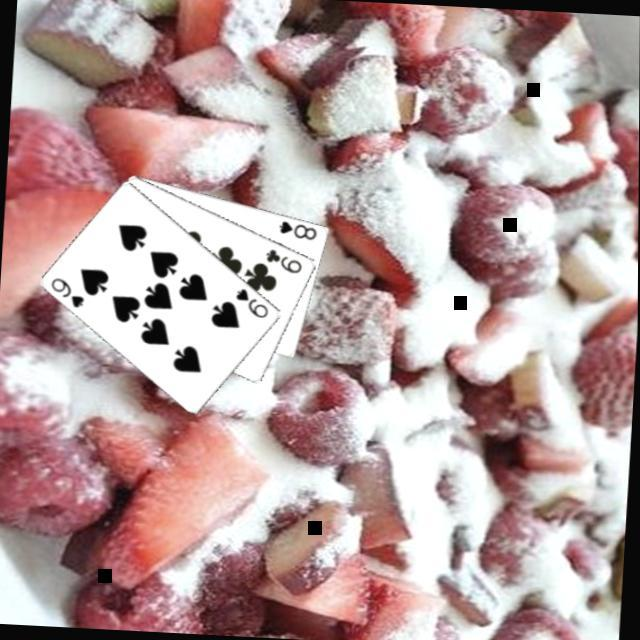8S: (276, 216, 321, 242)
9C: (264, 245, 308, 275)
9S: (232, 284, 274, 320), (48, 274, 90, 310)
